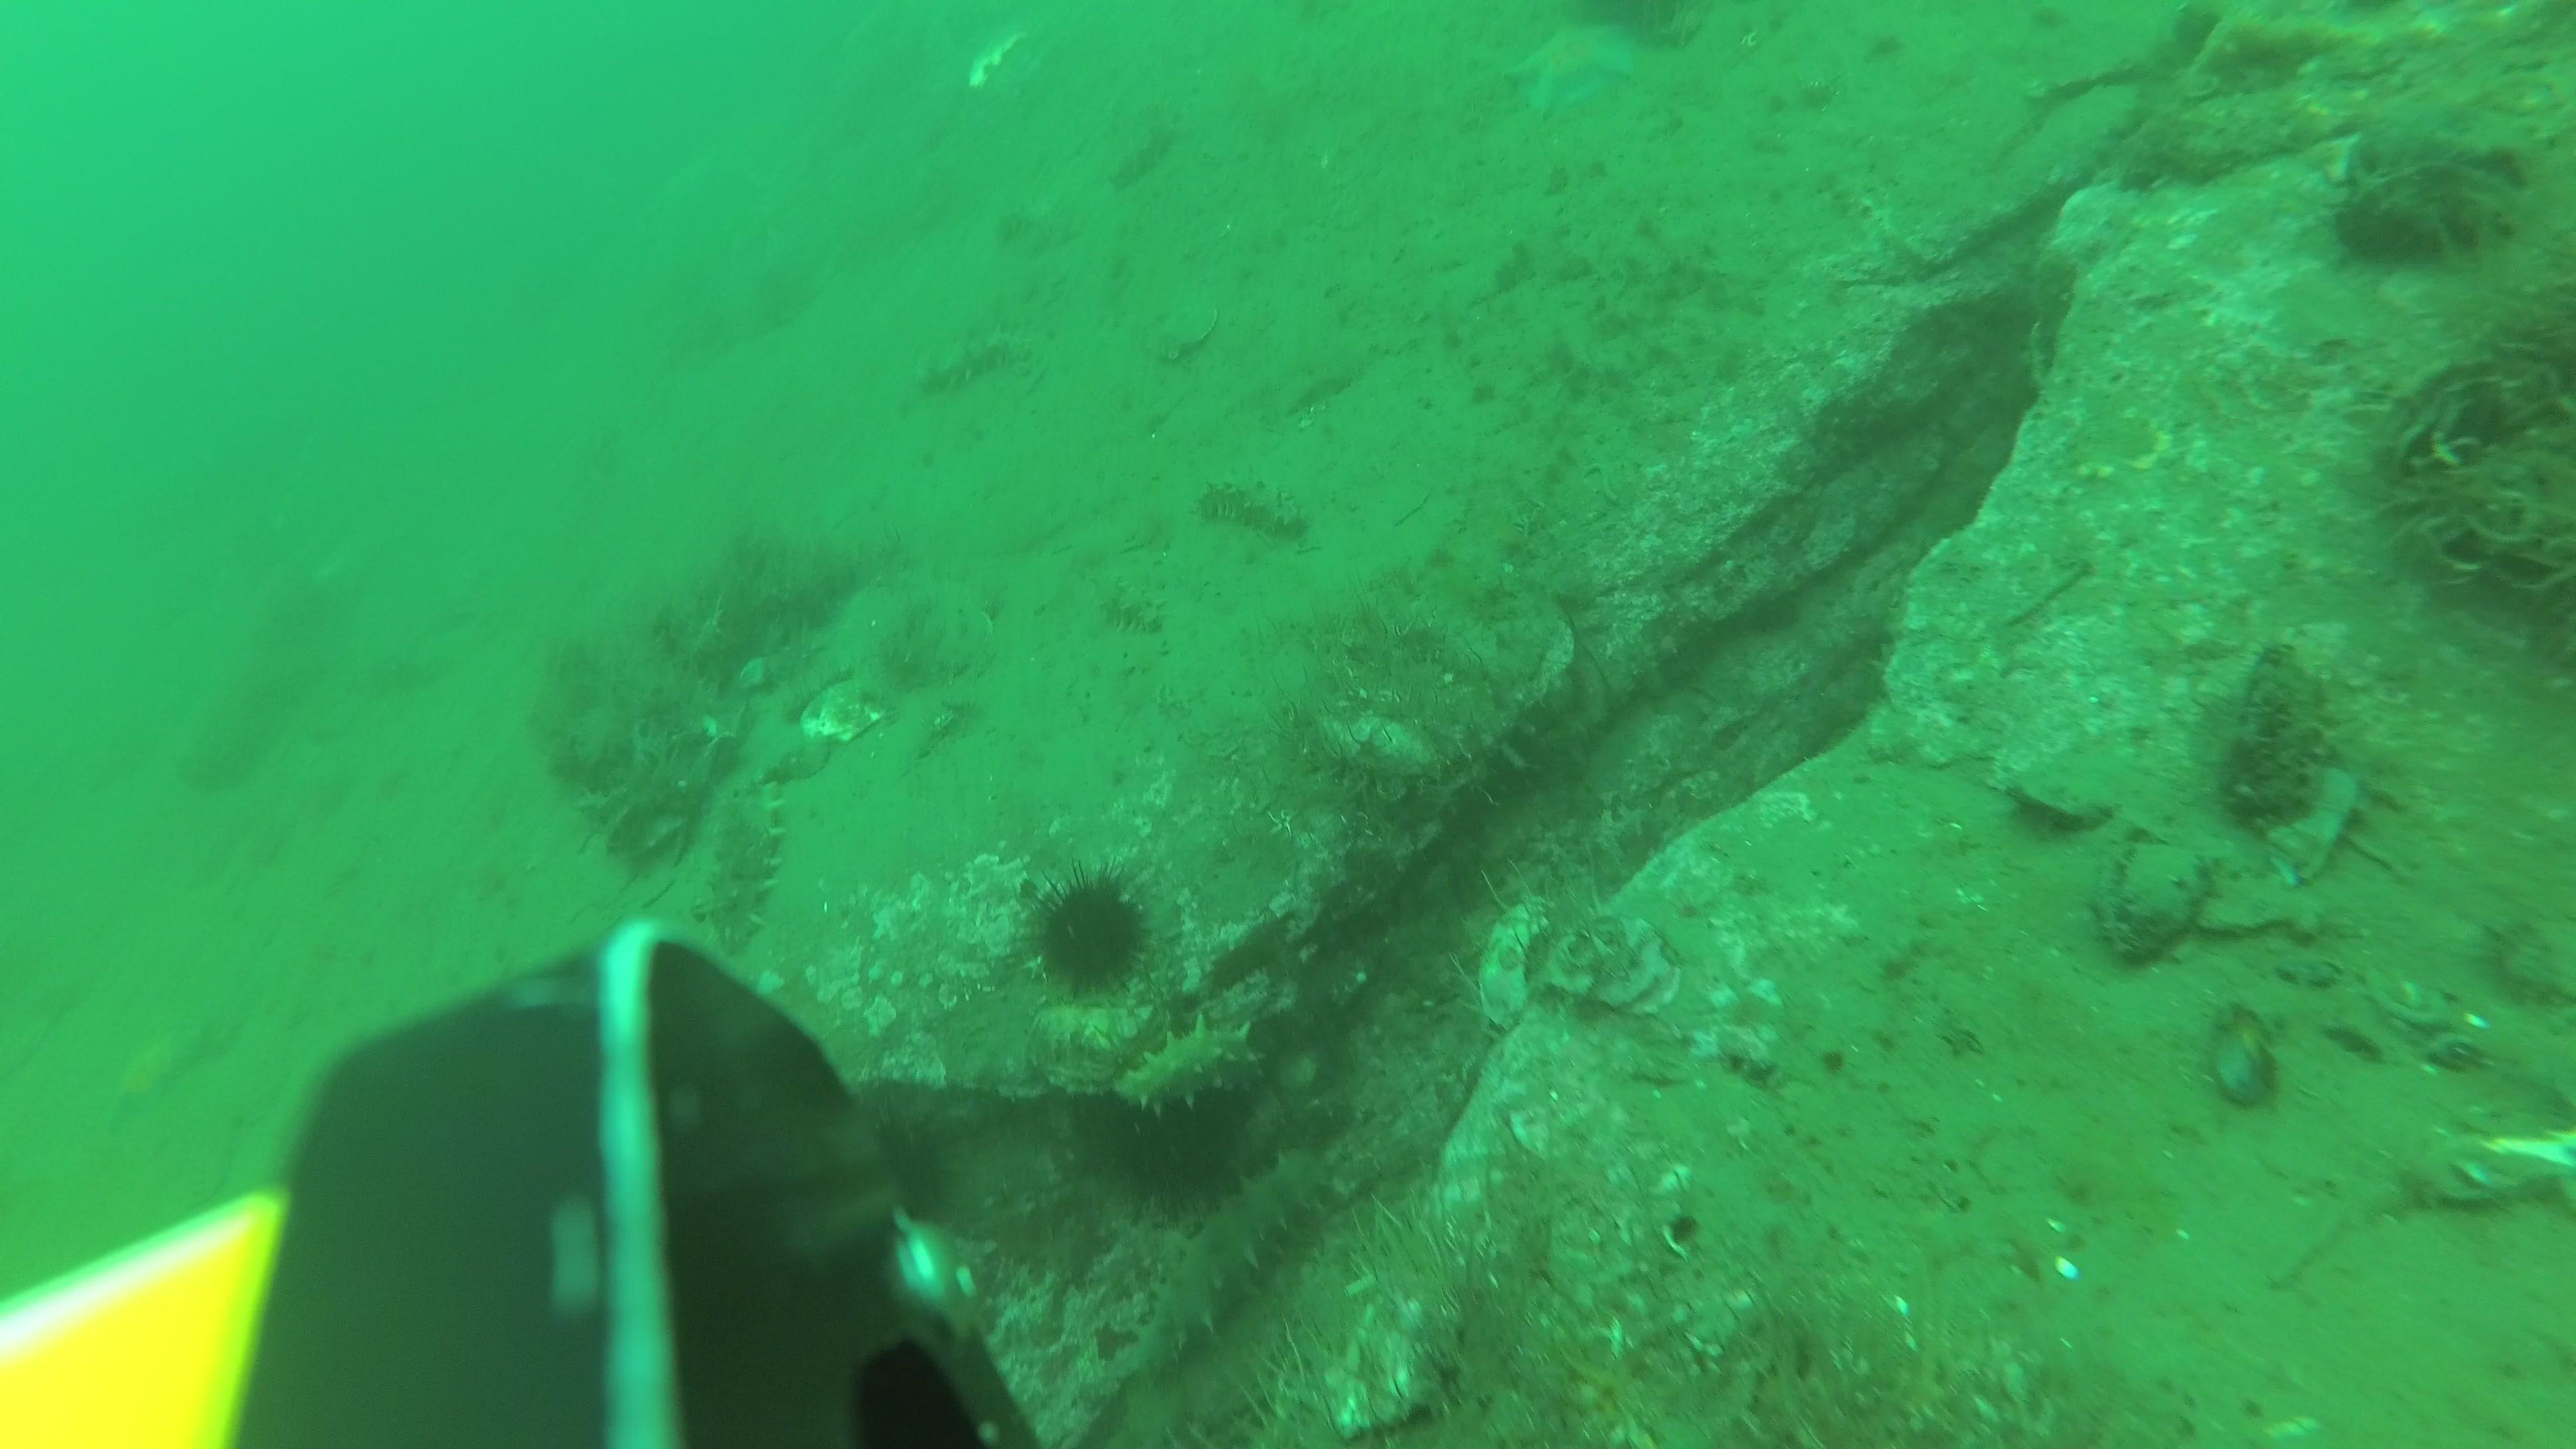echinus: (1030, 862, 1152, 1005), (853, 1108, 962, 1240), (1122, 1097, 1246, 1210)
holothurian: (1145, 1148, 1332, 1366), (709, 773, 787, 962), (1125, 1016, 1272, 1109), (916, 333, 1024, 400), (1196, 474, 1304, 540), (1111, 117, 1175, 191), (1001, 196, 1072, 251), (1104, 582, 1166, 639)
scallop: (920, 609, 996, 681), (805, 679, 885, 747), (1145, 303, 1221, 366)
starfish: (1514, 19, 1640, 122), (99, 1024, 196, 1127)
